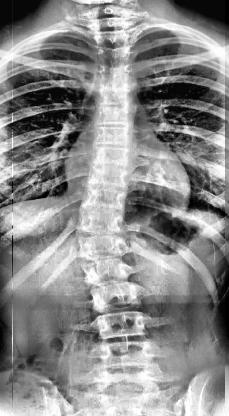Vertebrae: (93, 337, 163, 367), (90, 314, 154, 338), (78, 166, 136, 192), (82, 262, 138, 288), (88, 127, 140, 155), (87, 286, 146, 310), (78, 235, 132, 261), (90, 102, 142, 128), (74, 190, 130, 214), (75, 213, 129, 237), (90, 78, 139, 102), (86, 149, 140, 169), (89, 61, 138, 82), (96, 44, 132, 62), (96, 30, 132, 42)
